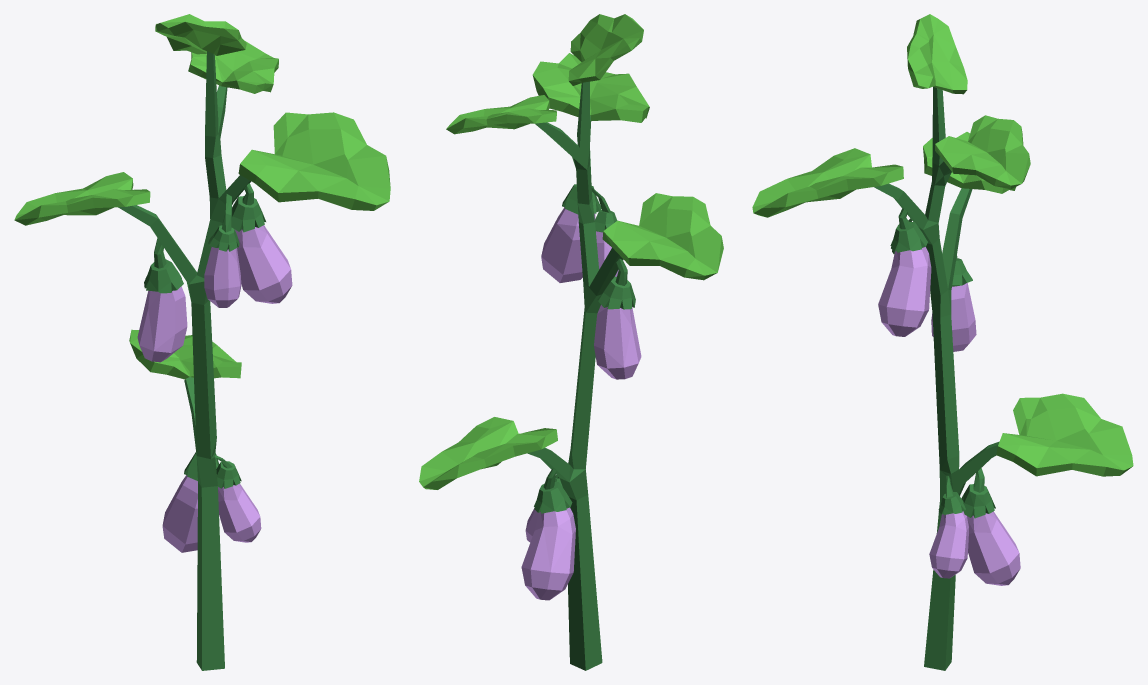
The model's file is Eggplant_M_Groowing.fbx.
The picture shows the model from 3 angles, left to right: view 1: azimuth 30°, elevation 25°; view 2: azimuth 150°, elevation 25°; view 3: azimuth 270°, elevation 25°; orthographic projection. The views are drawn at different scales.
Parts seen in each view (by area): view 1: Eggplant_M_Groowing, Eggplant_Young_2, Eggplant_Young_4, Eggplant_Young_3, Eggplant_Young_1, Eggplant_Young_5; view 2: Eggplant_M_Groowing, Eggplant_Young_5, Eggplant_Young_4, Eggplant_Young_2, Eggplant_Young_3; view 3: Eggplant_M_Groowing, Eggplant_Young_2, Eggplant_Young_5, Eggplant_Young_1, Eggplant_Young_4.
Part boxes in pixels (x1,y1,x2,y2): Eggplant_M_Groowing: (14,14,390,670); Eggplant_Young_2: (231,196,292,303); Eggplant_Young_4: (137,259,187,362); Eggplant_Young_3: (204,225,241,307); Eggplant_Young_1: (216,461,261,542); Eggplant_Young_5: (162,452,219,552); Eggplant_M_Groowing: (419,14,723,670); Eggplant_Young_5: (521,482,575,600); Eggplant_Young_4: (594,276,641,379); Eggplant_Young_2: (541,184,601,282); Eggplant_Young_3: (595,209,618,276); Eggplant_M_Groowing: (752,14,1133,670); Eggplant_Young_2: (878,222,931,336); Eggplant_Young_5: (961,484,1020,585); Eggplant_Young_1: (929,492,968,578); Eggplant_Young_4: (931,258,976,351).
Bounding box in the file's own units: 27.54 × 65.62 × 35.86.
